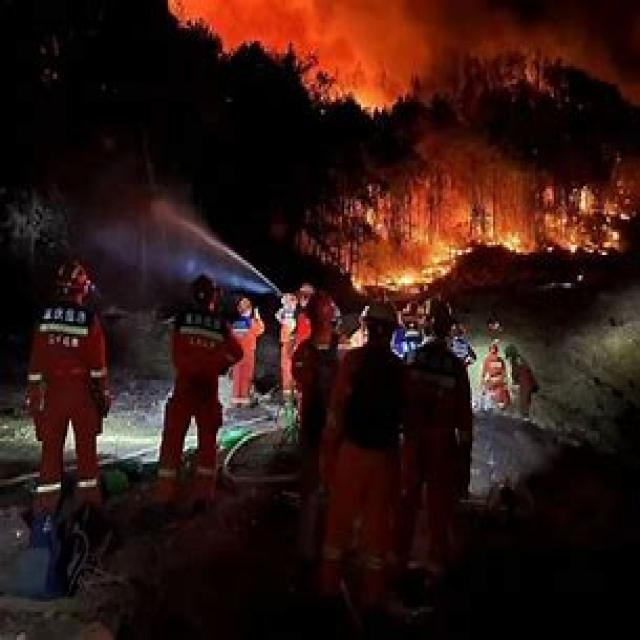fire: (348, 161, 628, 298)
